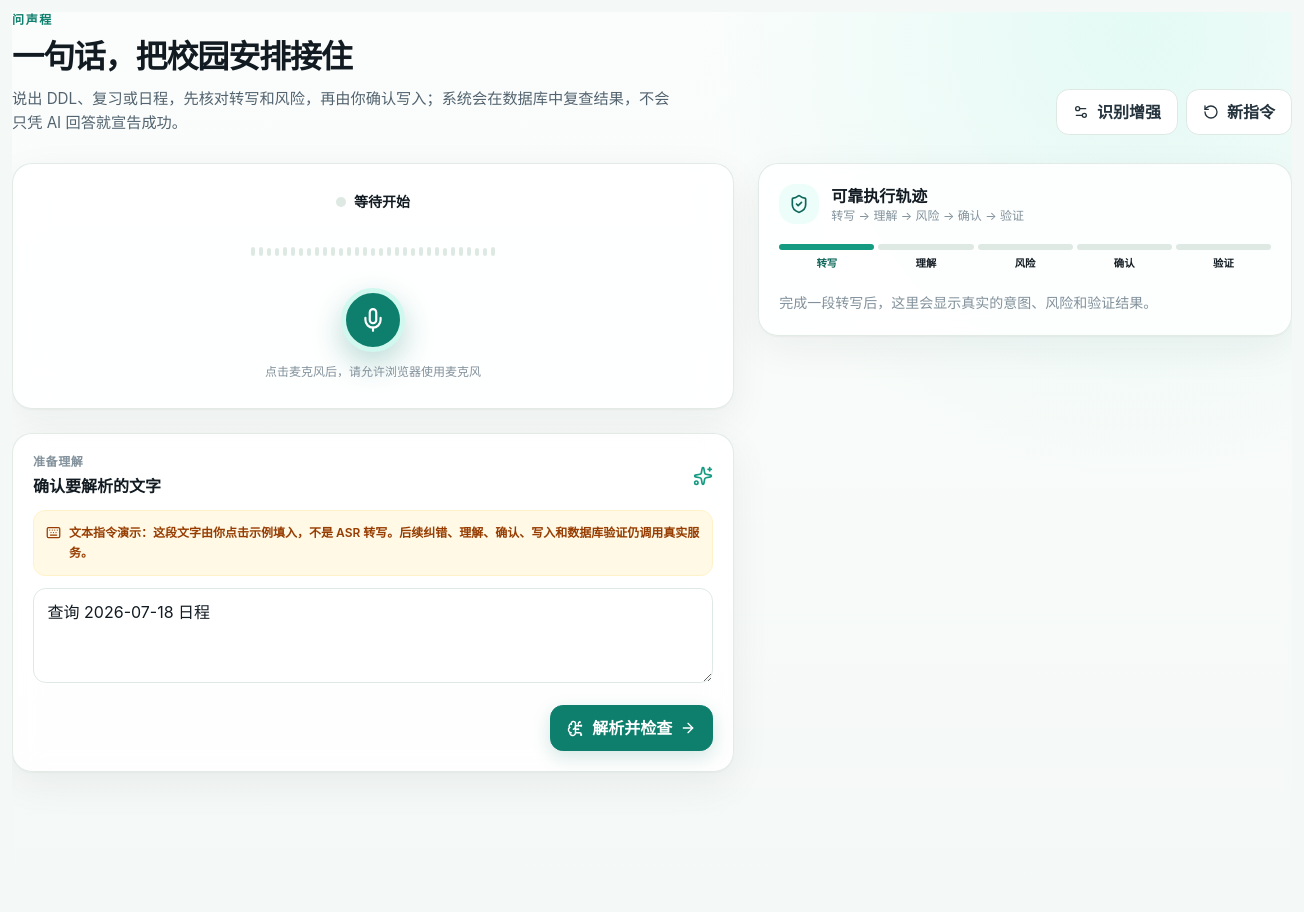
Scenario: VoicePage ASR lineage › uses the requested local date as the schedule query window
Click the button "解析并检查" at (632, 728), box x1=550 y1=705 x2=713 y2=751
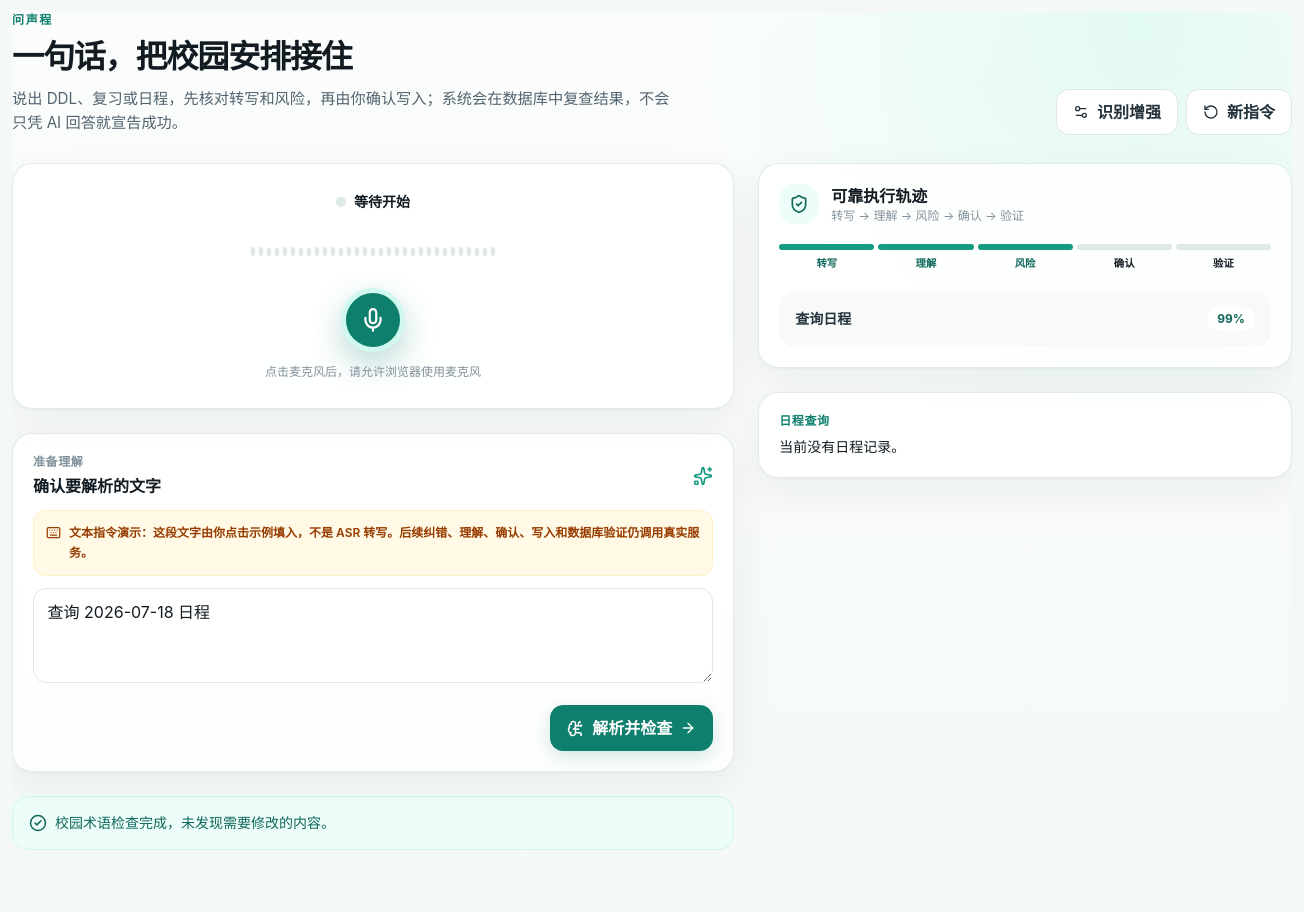
Check: the text "当前没有日程记录。" is shown, box x1=779 y1=438 x2=905 y2=455
